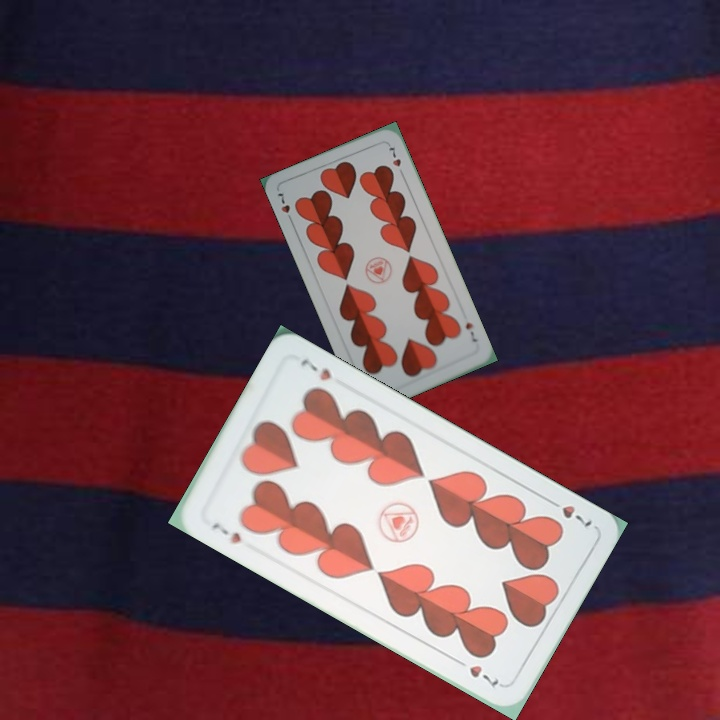H7: (543, 494, 595, 530), (208, 517, 244, 547), (273, 189, 295, 226), (461, 318, 480, 345)
